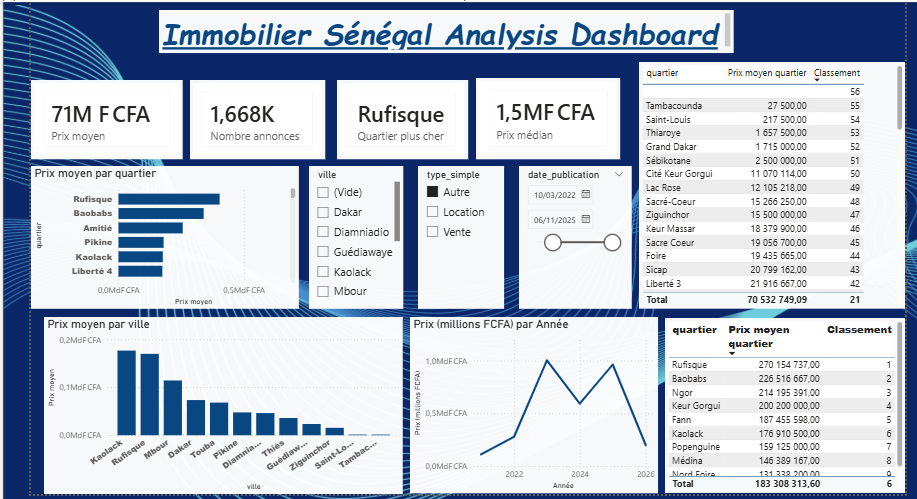

The page's visual inventory and layout, read from the dashboard file:
{"tool":"powerbi","page":{"name":"Dashboad Immobilier Senegal analysis","canvas":[1280,720],"ordinal":3},"visuals":[{"type":"barChart","fields":{"Category":["statistiques_par_quartier.quartier"],"Y":["expat_dakar_pieces_traite.Prix moyen"]},"box":[0,240,392.2,209.3],"z":0},{"type":"clusteredColumnChart","fields":{"Category":["statistiques_par_ville.ville"],"Y":["expat_dakar_pieces_traite.Prix moyen ville"]},"box":[19,461,525.4,259],"z":1000},{"type":"lineChart","fields":{"Category":["kpi_evolution_mensuelle.date_publication.Variation.Hiérarchie de dates.Année","kpi_evolution_mensuelle.date_publication.Variation.Hiérarchie de dates.Trimestre","kpi_evolution_mensuelle.date_publication.Variation.Hiérarchie de dates.Mois","kpi_evolution_mensuelle.date_publication.Variation.Hiérarchie de dates.Jour"],"Y":["Sum(kpi_evolution_mensuelle.prix_moyen)"]},"box":[554.6,461,362.9,257.6],"z":2000},{"type":"tableEx","fields":{"Values":["statistiques_par_quartier.quartier","expat_dakar_pieces_traite.Prix moyen quartier","expat_dakar_pieces_traite.Classement quartiers prix"]},"box":[927.8,462.4,352.7,256.1],"z":3000},{"type":"textbox","box":[187.3,11.7,841.5,62.9],"z":4000},{"type":"cardVisual","fields":{"Data":["expat_dakar_pieces_traite.Prix moyen"]},"box":[0,114.1,222.4,115.6],"z":4001},{"type":"cardVisual","fields":{"Data":["expat_dakar_pieces_traite.Prix médian"]},"box":[651.2,111.2,210.7,118.5],"z":4002},{"type":"cardVisual","fields":{"Data":["expat_dakar_pieces_traite.Nombre annonces"]},"box":[232.7,114.1,197.6,115.6],"z":4003},{"type":"cardVisual","fields":{"Data":["expat_dakar_pieces_traite.Quartier plus cher"]},"box":[447.8,114.1,191.7,115.6],"z":4004},{"type":"tableEx","fields":{"Values":["statistiques_par_quartier.quartier","expat_dakar_pieces_traite.Prix moyen quartier","expat_dakar_pieces_traite.Classement quartiers prix"]},"box":[889.8,87.8,390.7,361.5],"z":4005},{"type":"slicer","fields":{"Values":["statistiques_par_ville.ville"]},"box":[406.8,240,137.6,209.3],"z":4006},{"type":"slicer","fields":{"Values":["statistiques_par_type_bien.type_simple"]},"box":[566.3,240,125.9,209.3],"z":4007},{"type":"slicer","fields":{"Values":["expat_dakar_pieces_traite.date_publication"]},"box":[714.1,240,165.4,209.3],"z":4008}]}

Visuals, with their boxes in screenshot pixels (x1, y1, x2, y2):
barChart - statistiques_par_quartier.quartier x expat_dakar_pieces_traite.Prix moyen: (29, 164, 297, 307)
clusteredColumnChart - statistiques_par_ville.ville x expat_dakar_pieces_traite.Prix moyen ville: (42, 315, 401, 492)
lineChart - kpi_evolution_mensuelle.date_publication.Variation.Hiérarchie de dates.Année x kpi_evolution_mensuelle.date_publication.Variation.Hiérarchie de dates.Trimestre: (408, 315, 656, 491)
tableEx - statistiques_par_quartier.quartier x expat_dakar_pieces_traite.Prix moyen quartier: (663, 316, 904, 491)
textbox: (157, 8, 732, 51)
cardVisual - expat_dakar_pieces_traite.Prix moyen: (29, 78, 181, 157)
cardVisual - expat_dakar_pieces_traite.Prix médian: (474, 76, 618, 157)
cardVisual - expat_dakar_pieces_traite.Nombre annonces: (188, 78, 323, 157)
cardVisual - expat_dakar_pieces_traite.Quartier plus cher: (335, 78, 466, 157)
tableEx - statistiques_par_quartier.quartier x expat_dakar_pieces_traite.Prix moyen quartier: (637, 60, 904, 307)
slicer - statistiques_par_ville.ville: (307, 164, 401, 307)
slicer - statistiques_par_type_bien.type_simple: (416, 164, 502, 307)
slicer - expat_dakar_pieces_traite.date_publication: (517, 164, 630, 307)
